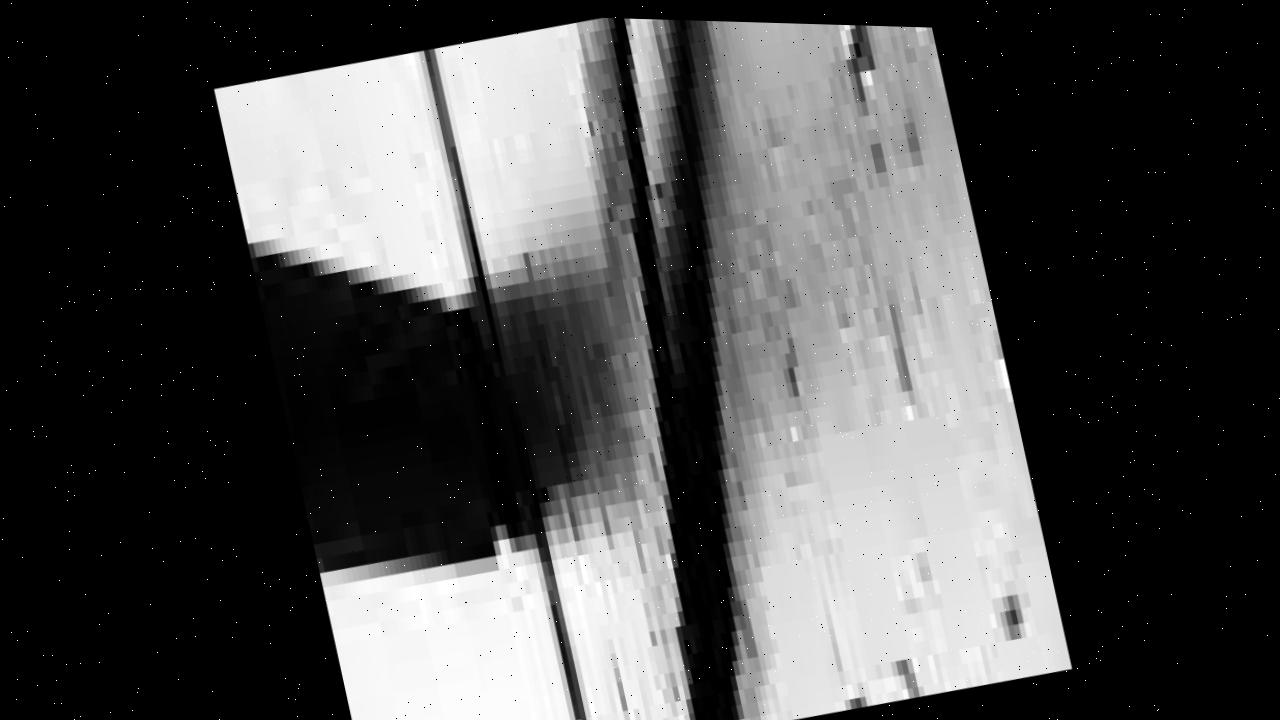Water Stains: (455, 11, 1071, 720)
